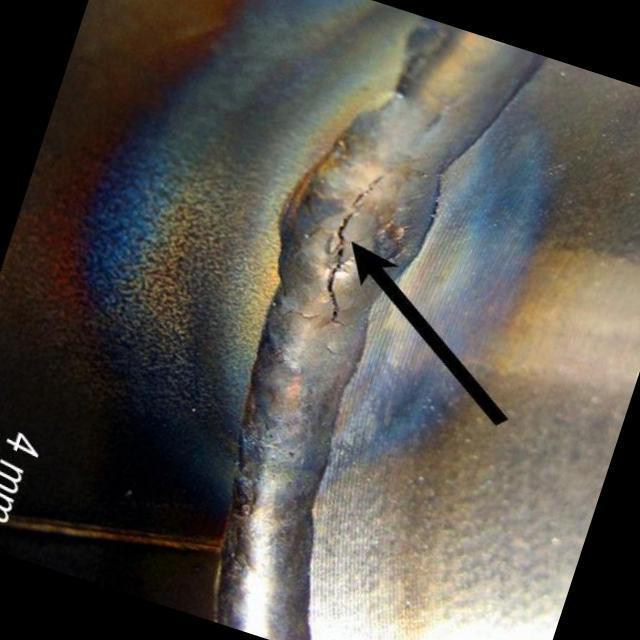defect: (316, 173, 386, 333)
